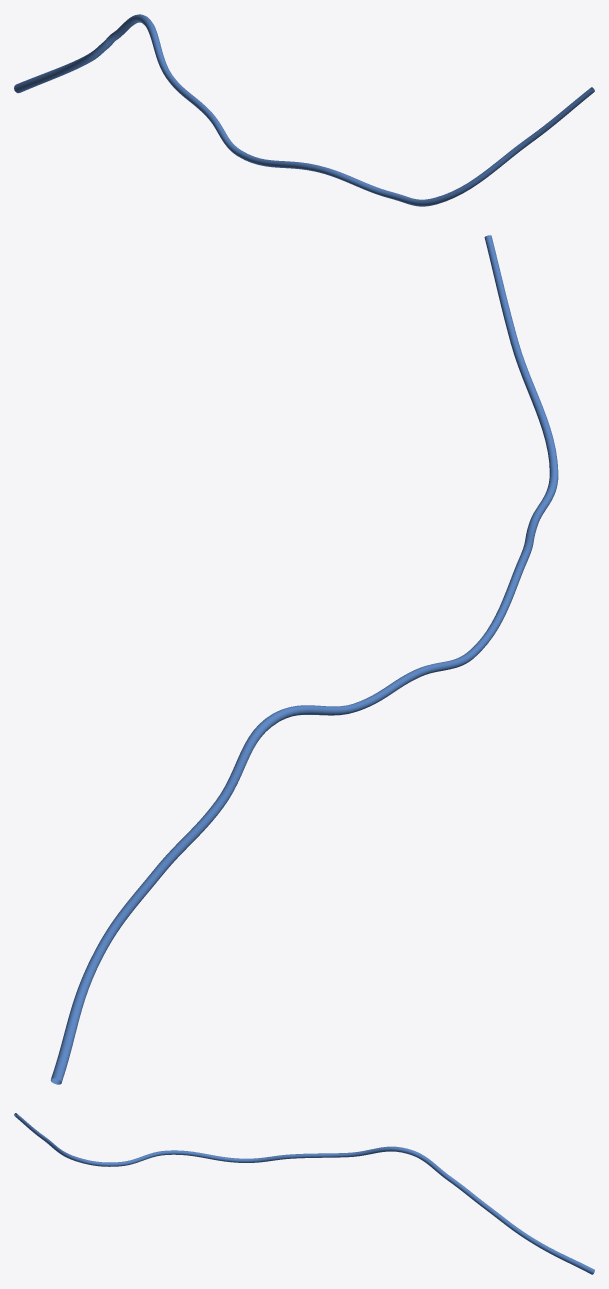
The picture shows the model from 3 angles, top to bottom: view 1: azimuth 30°, elevation 25°; view 2: azimuth 150°, elevation 25°; view 3: azimuth 270°, elevation 25°; orthographic projection. The views are drawn at different scales.
Parts seen in each view (by area): view 1: 左侧椎静脉; view 2: 左侧椎静脉; view 3: 左侧椎静脉.
Boxes of the visible parts, <box> form: 左侧椎静脉: <box>14,14,594,206</box>; 左侧椎静脉: <box>50,235,558,1084</box>; 左侧椎静脉: <box>14,1113,594,1274</box>.
Bounding box in the file's own units: 0.0511 × 0.087 × 0.2331.
